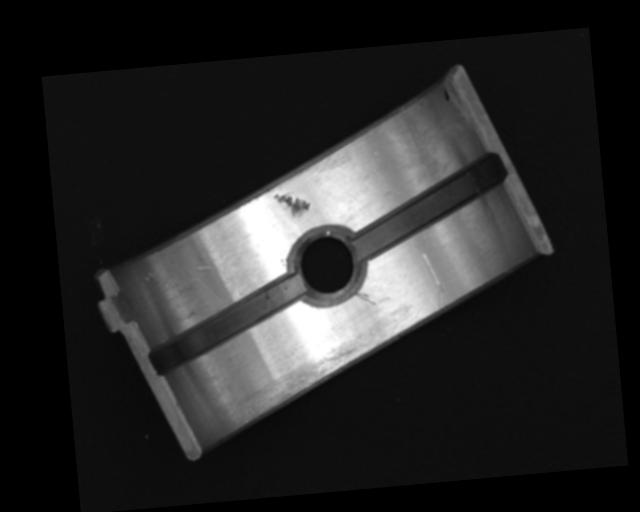blot: (442, 86, 449, 102)
bruise: (272, 191, 311, 220), (194, 263, 217, 274)
gap: (348, 155, 511, 260), (142, 276, 308, 375)
hole: (288, 222, 368, 308)
nick: (412, 242, 444, 314), (354, 290, 376, 307)
scratch: (233, 330, 391, 425)
